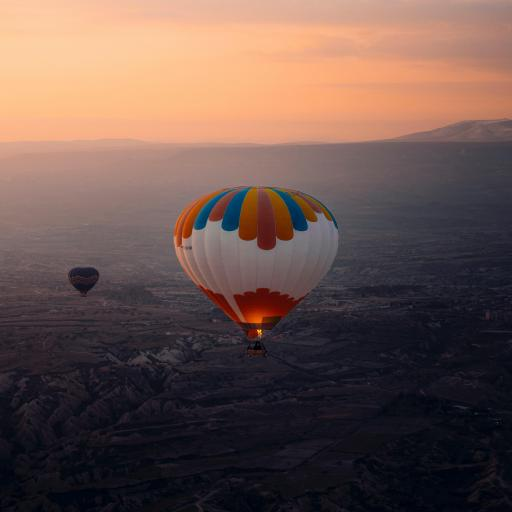hot air ballon: (172, 185, 340, 357), (67, 267, 100, 297)
